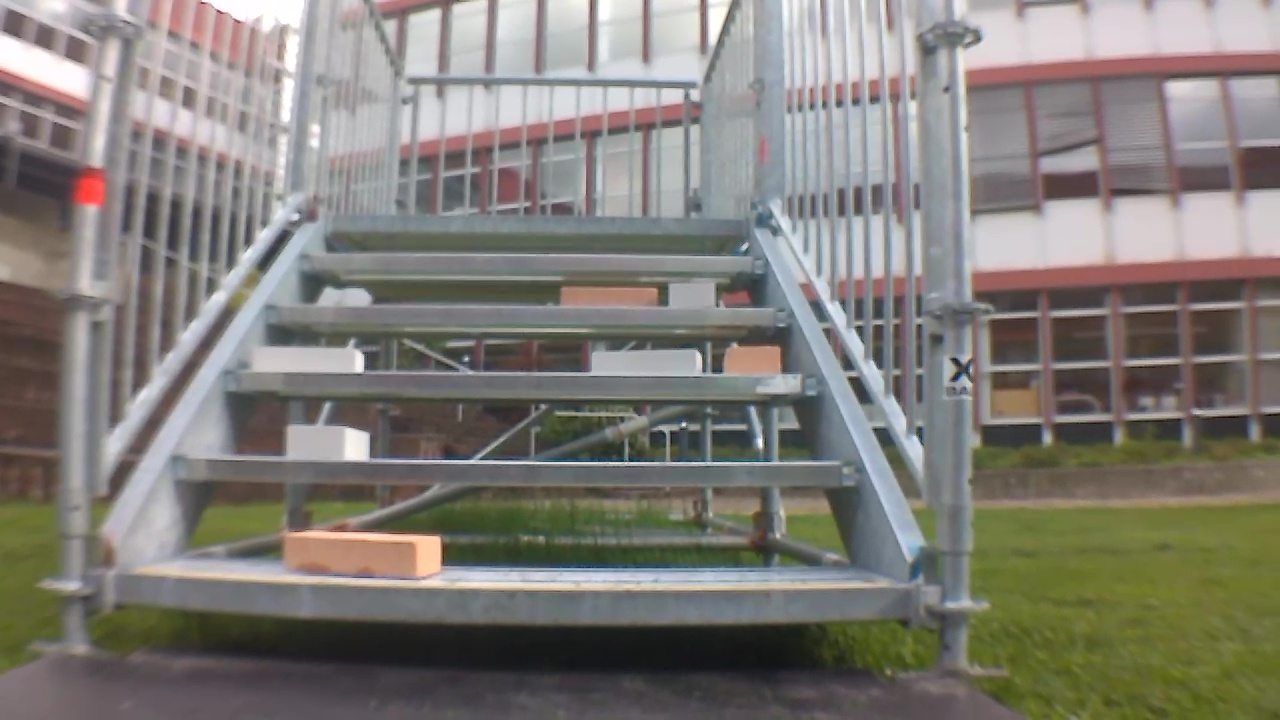brick: (283, 533, 438, 577), (252, 346, 364, 371), (288, 425, 369, 459), (593, 348, 700, 373), (563, 287, 656, 305), (726, 348, 780, 374), (670, 283, 714, 306)
edge: (116, 576, 909, 621), (172, 456, 858, 485), (225, 371, 826, 398), (266, 305, 793, 325), (328, 215, 744, 235), (302, 254, 765, 271)
stairs: (45, 3, 1009, 672)
steps: (106, 209, 918, 633)
